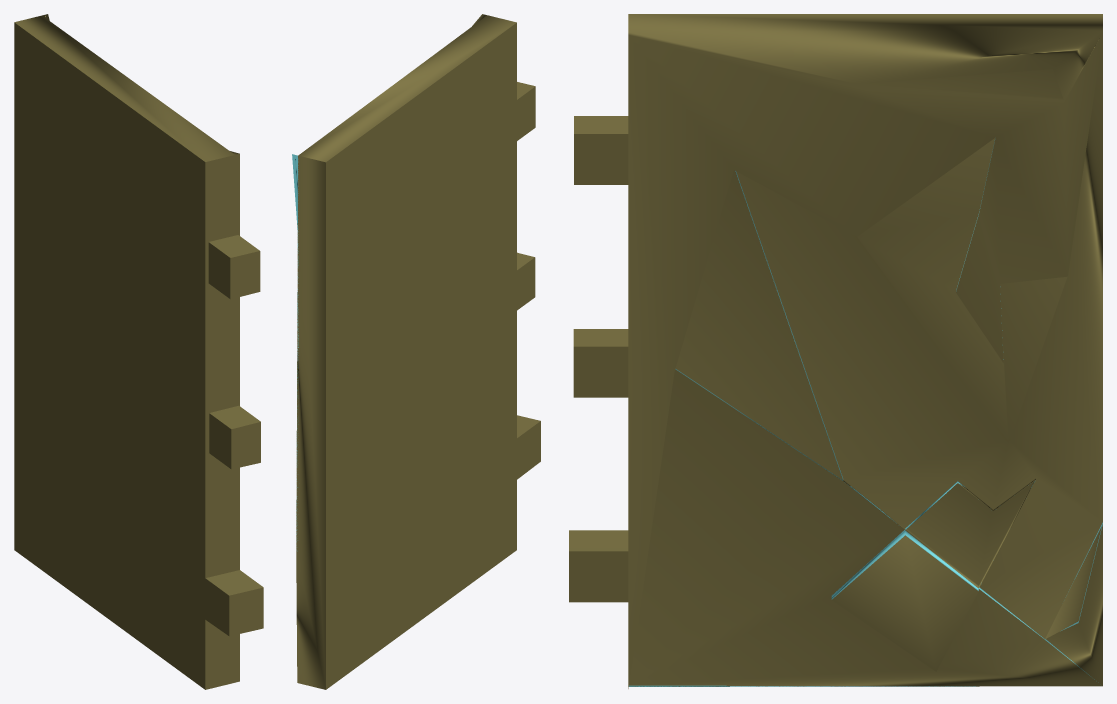
File: doormage.fbx
The picture shows the model from 3 angles, left to right: view 1: azimuth 30°, elevation 25°; view 2: azimuth 150°, elevation 25°; view 3: azimuth 270°, elevation 25°; orthographic projection. The views are drawn at different scales.
Visible parts, largest first — view 1: Cube.001; view 2: Cube.001; view 3: Cube.001.
Part boxes in pixels (x1,y1,x2,y2): Cube.001: [14, 14, 263, 689]; Cube.001: [292, 14, 540, 689]; Cube.001: [569, 14, 1102, 688].
Bounding box in the file's own units: 31.04 × 414 × 306.
